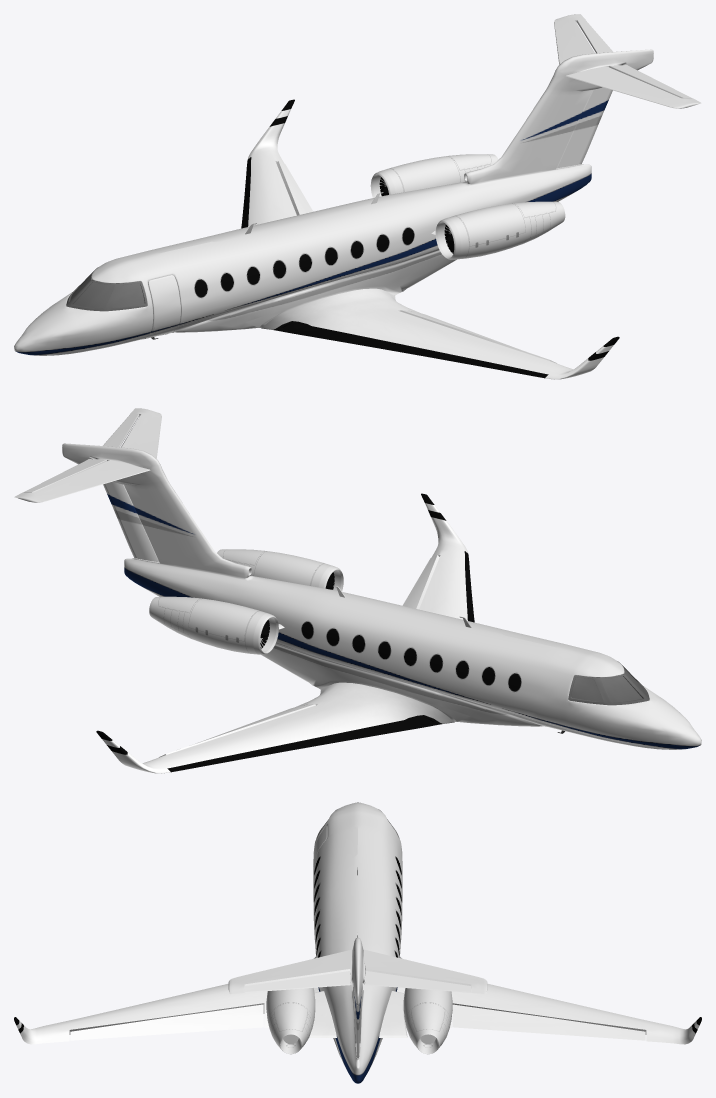
Rendered from g280_private_jet_without_door.glb.
3 views of the same model, one above another, from view 1: azimuth 30°, elevation 25°; view 2: azimuth 150°, elevation 25°; view 3: azimuth 270°, elevation 25° (orthographic). The views are drawn at different scales.
Visible parts, largest first — view 1: door, model_10, model_7, model_4, model_0, model_9, model_3; view 2: door, model_10, model_7, model_4, model_0, model_9, model_3; view 3: model_10, door, model_4, model_7, model_2.
Part boxes in pixels (left/top/right/bottom): door: left=14, top=49, right=653, bottom=355; model_10: left=151, top=20, right=691, bottom=379; model_7: left=373, top=154, right=565, bottom=259; model_4: left=168, top=14, right=701, bottom=333; model_0: left=241, top=99, right=619, bottom=378; model_9: left=70, top=274, right=144, bottom=308; model_3: left=66, top=267, right=147, bottom=311; door: left=62, top=443, right=701, bottom=749; model_10: left=24, top=414, right=564, bottom=773; model_7: left=149, top=549, right=341, bottom=654; model_4: left=14, top=408, right=470, bottom=721; model_0: left=96, top=493, right=474, bottom=772; model_9: left=571, top=668, right=645, bottom=702; model_3: left=568, top=661, right=649, bottom=705; model_10: left=16, top=867, right=699, bottom=1044; door: left=313, top=802, right=402, bottom=1083; model_4: left=228, top=949, right=487, bottom=1082; model_7: left=266, top=988, right=452, bottom=1054; model_2: left=232, top=953, right=483, bottom=979.
Size of the model in its own units: 0.926 by 0.2545 by 0.8161.
3 materials, 3 textured.
